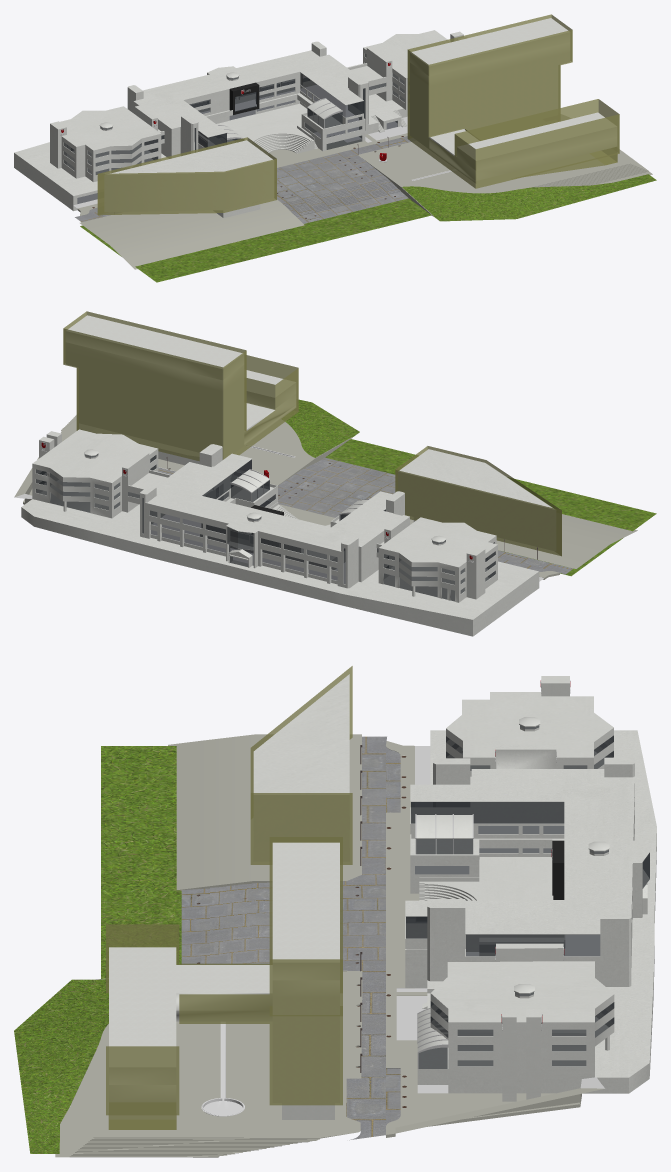
The model's file is UNIC VR.fbx.
The picture shows the model from 3 angles, top to bottom: view 1: azimuth 30°, elevation 25°; view 2: azimuth 150°, elevation 25°; view 3: azimuth 270°, elevation 25°; orthographic projection. The views are drawn at different scales.
Visible parts, largest first — view 1: CROWN_BUILDING-Undefined_material, MILLENNIUM SIDE BUILDING.001, CROWN_BUILDING-_Color_005_.001, Object_Tile_Travertine_2inch_2.001, Object_Tile_Travertine_2inch_2-Undefined_material, Grass Base, Object_Tile_Travertine_2inch_2, Grass_Areas, MILLENNIUM BUILDING, WINDOWS, AMPHITHEATRE, EUROPA BUILDING (+6 smaller); view 2: MILLENNIUM SIDE BUILDING.001, CROWN_BUILDING-Undefined_material, CROWN_BUILDING-_Color_005_.001, EUROPA BUILDING, WINDOWS, MILLENNIUM BUILDING, Grass Base, Object_Tile_Travertine_2inch_2, Object_Tile_Travertine_2inch_2-Undefined_material, Object_Tile_Travertine_2inch_2.001, Grass_Areas, EUROPA SIDE BUILDINGS (+5 smaller); view 3: MILLENNIUM SIDE BUILDING.001, CROWN_BUILDING-Undefined_material, Object_Tile_Travertine_2inch_2-Undefined_material, EUROPA BUILDING, Grass Base, CROWN_BUILDING-_Color_005_.001, Object_Tile_Travertine_2inch_2.001, Object_Tile_Travertine_2inch_2, WINDOWS, Walkway, Grass_Areas, MILLENNIUM BUILDING (+8 smaller).
Boxes of the visible parts, left/top/right/bottom form: CROWN_BUILDING-Undefined_material: left=407, top=14, right=619, bottom=188; MILLENNIUM SIDE BUILDING.001: left=14, top=41, right=407, bottom=211; CROWN_BUILDING-_Color_005_.001: left=97, top=137, right=276, bottom=218; Object_Tile_Travertine_2inch_2.001: left=80, top=198, right=304, bottom=269; Object_Tile_Travertine_2inch_2-Undefined_material: left=358, top=114, right=652, bottom=216; Grass Base: left=80, top=198, right=431, bottom=282; Object_Tile_Travertine_2inch_2: left=277, top=150, right=408, bottom=223; Grass_Areas: left=402, top=174, right=656, bottom=221; MILLENNIUM BUILDING: left=60, top=106, right=161, bottom=182; WINDOWS: left=64, top=53, right=404, bottom=203; AMPHITHEATRE: left=216, top=103, right=318, bottom=154; EUROPA BUILDING: left=363, top=30, right=449, bottom=109; MILLENNIUM SIDE BUILDING.001: left=21, top=444, right=539, bottom=636; CROWN_BUILDING-Undefined_material: left=63, top=311, right=298, bottom=465; CROWN_BUILDING-_Color_005_.001: left=395, top=446, right=561, bottom=556; EUROPA BUILDING: left=32, top=429, right=158, bottom=518; WINDOWS: left=36, top=455, right=495, bottom=601; MILLENNIUM BUILDING: left=378, top=517, right=497, bottom=602; Grass Base: left=325, top=439, right=656, bottom=576; Object_Tile_Travertine_2inch_2: left=278, top=457, right=395, bottom=517; Object_Tile_Travertine_2inch_2-Undefined_material: left=61, top=415, right=352, bottom=485; Object_Tile_Travertine_2inch_2.001: left=407, top=514, right=637, bottom=568; Grass_Areas: left=282, top=399, right=359, bottom=457; EUROPA SIDE BUILDINGS: left=39, top=431, right=170, bottom=512; MILLENNIUM SIDE BUILDING.001: left=405, top=730, right=656, bottom=1093; CROWN_BUILDING-Undefined_material: left=106, top=837, right=342, bottom=1129; Object_Tile_Travertine_2inch_2-Undefined_material: left=55, top=970, right=362, bottom=1157; EUROPA BUILDING: left=430, top=961, right=614, bottom=1077; Grass Base: left=101, top=746, right=181, bottom=978; CROWN_BUILDING-_Color_005_.001: left=250, top=666, right=352, bottom=864; Object_Tile_Travertine_2inch_2.001: left=168, top=734, right=361, bottom=890; Object_Tile_Travertine_2inch_2: left=181, top=874, right=385, bottom=971; WINDOWS: left=406, top=735, right=649, bottom=1068; Walkway: left=386, top=741, right=581, bottom=1137; Grass_Areas: left=14, top=979, right=108, bottom=1153; MILLENNIUM BUILDING: left=446, top=692, right=613, bottom=776.
Size of the model in its own units: 20328 by 4239 by 13364.
